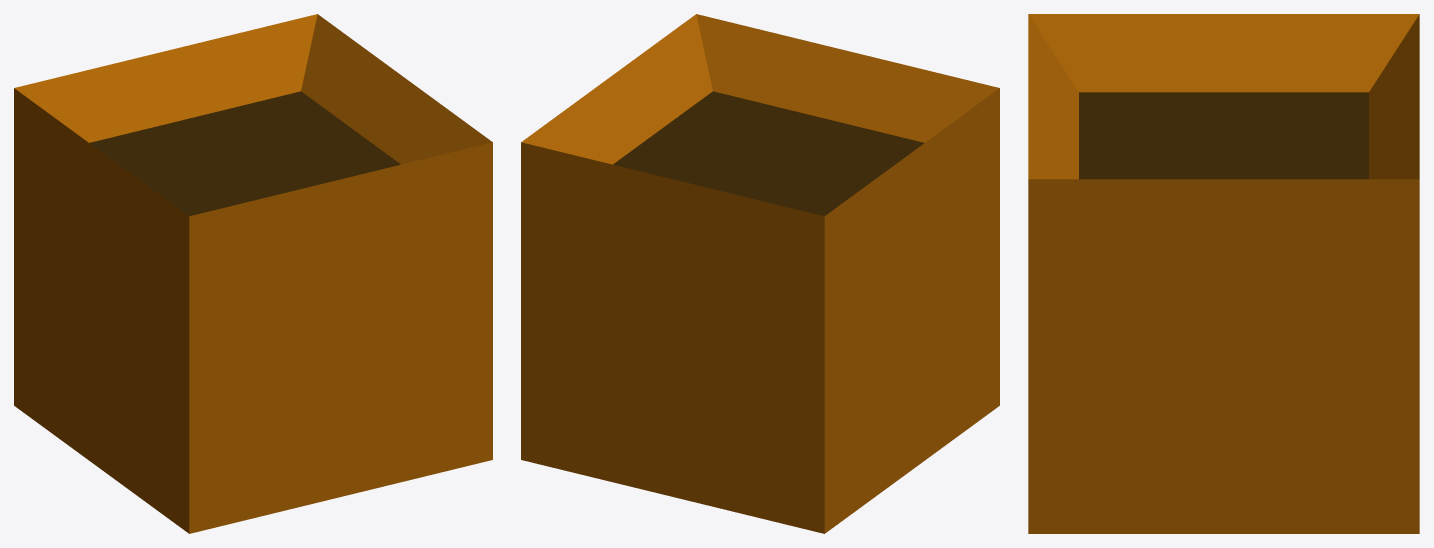
File: planter 0.1.fbx
3 views of the same model, side by side, from view 1: azimuth 30°, elevation 25°; view 2: azimuth 150°, elevation 25°; view 3: azimuth 270°, elevation 25° (orthographic). The views are drawn at different scales.
Visible parts, largest first — view 1: Cube; view 2: Cube; view 3: Cube.
Part boxes in pixels (<box>): Cube: <box>14,14,492,533</box>; Cube: <box>521,14,999,533</box>; Cube: <box>1028,14,1419,533</box>.
Size of the model in its own units: 200 by 200 by 200.
